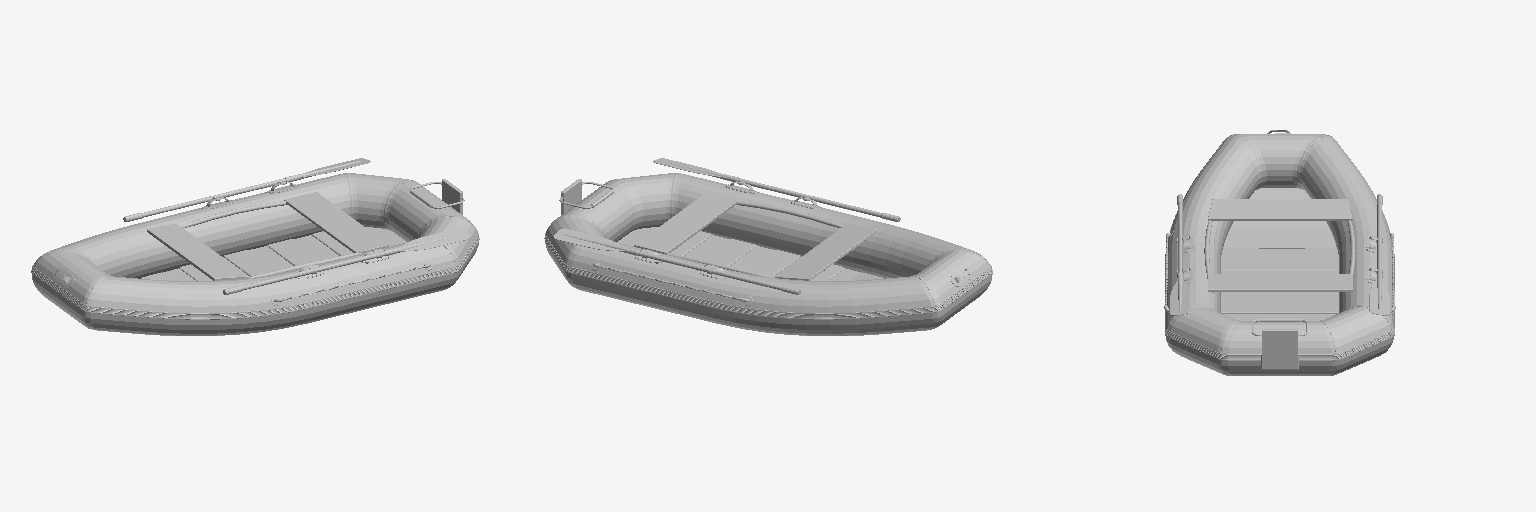
File: boat.obj
3 renders of one model, left to right at view 1: azimuth 30°, elevation 25°; view 2: azimuth 150°, elevation 25°; view 3: azimuth 270°, elevation 25°, orthographic.
Visible parts, largest first — view 1: arch48_028, arch48_023, arch48_022, arch48_027, arch48_025, arch48_021, arch48_024; view 2: arch48_028, arch48_023, arch48_022, arch48_027, arch48_021, arch48_025, arch48_024; view 3: arch48_028, arch48_023, arch48_022, arch48_021, arch48_025, arch48_027, arch48_024.
Part boxes in pixels (left/top/right/bottom): arch48_028: left=32, top=173, right=478, bottom=335; arch48_023: left=32, top=179, right=478, bottom=317; arch48_022: left=163, top=227, right=406, bottom=280; arch48_027: left=31, top=233, right=479, bottom=319; arch48_025: left=123, top=158, right=469, bottom=294; arch48_021: left=140, top=231, right=341, bottom=280; arch48_024: left=142, top=178, right=385, bottom=290; arch48_028: left=545, top=173, right=992, bottom=335; arch48_023: left=545, top=179, right=992, bottom=317; arch48_022: left=617, top=227, right=860, bottom=280; arch48_027: left=544, top=233, right=992, bottom=319; arch48_021: left=679, top=231, right=883, bottom=280; arch48_025: left=554, top=158, right=900, bottom=294; arch48_024: left=638, top=178, right=881, bottom=290; arch48_028: left=1165, top=134, right=1394, bottom=375; arch48_023: left=1164, top=130, right=1395, bottom=358; arch48_022: left=1221, top=188, right=1338, bottom=320; arch48_021: left=1221, top=232, right=1338, bottom=313; arch48_025: left=1170, top=194, right=1389, bottom=315; arch48_027: left=1165, top=213, right=1394, bottom=360; arch48_024: left=1178, top=202, right=1381, bottom=272.
Size of the model in its own units: 3.43 by 0.568 by 1.73.